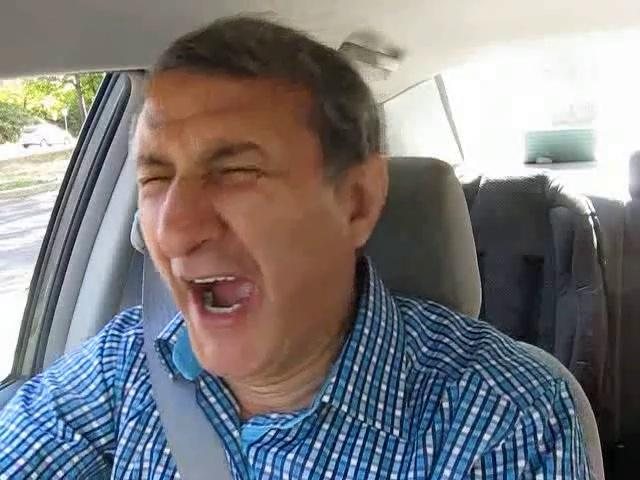close_eyeL: (123, 160, 182, 203)
close_eyeR: (194, 151, 280, 195)
yawn: (166, 257, 279, 336)
